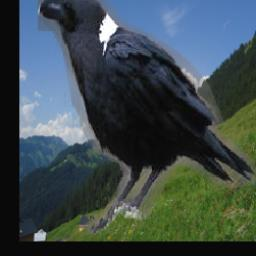Crow: (37, 0, 256, 236)
